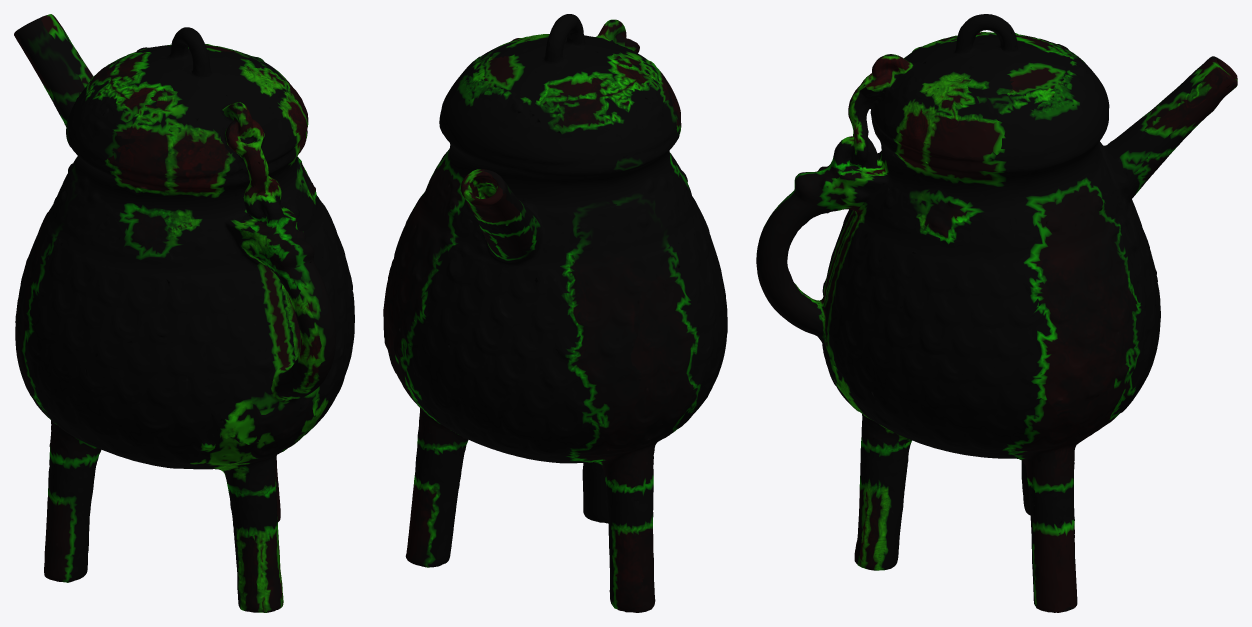
3 views of the same model, side by side, from view 1: azimuth 30°, elevation 25°; view 2: azimuth 150°, elevation 25°; view 3: azimuth 270°, elevation 25° (orthographic).
Parts seen in each view (by area): view 1: he; view 2: he; view 3: he.
Boxes of the visible parts, <box> form: he: <box>14,14,354,612</box>; he: <box>383,14,727,612</box>; he: <box>756,14,1237,612</box>.
Bounding box in the file's own units: 0.1864 × 0.3226 × 0.2587.
Materials: 1 (1 with a texture image).
